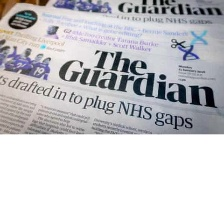news_paper: (0, 1, 224, 134)
